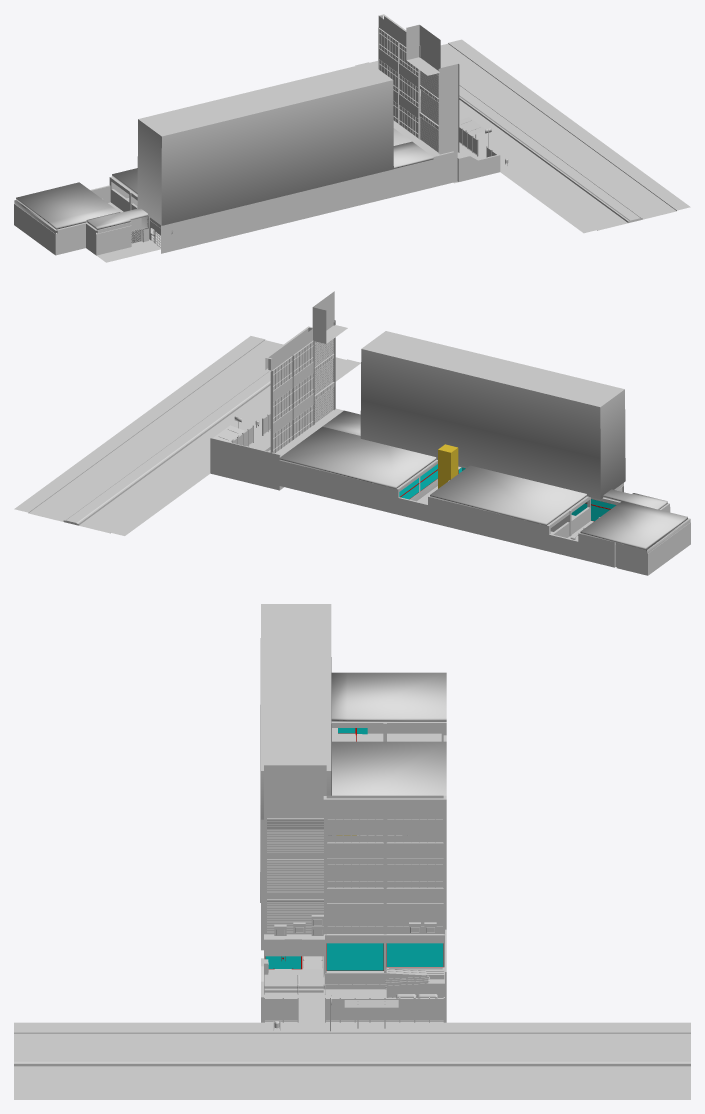
File: bloc.fbx
3 views of the same model, one above another, from view 1: azimuth 30°, elevation 25°; view 2: azimuth 150°, elevation 25°; view 3: azimuth 270°, elevation 25° (orthographic). The views are drawn at different scales.
Parts seen in each view (by area): view 1: Cube.053, Plane.078, Cube.023, Plane.079, Plane.006, Plane.113, Plane.293, Plane.114, Plane.033, Plane.127, Plane.155, Plane.247 (+6 smaller); view 2: Cube.053, Plane.078, Cube.023, Plane.297, Plane.299, Plane.079, Plane.008, Plane.007, Plane.293, Plane.031, Plane.127, Plane.192 (+9 smaller); view 3: Plane.078, Cube.023, Cube.053, Plane.079, Plane.299, Plane.293, Plane.032, Plane.320, Plane.321, chao.003, Plane.122, Cube.009.
Boxes of the visible parts, x1,y1,x2,y2 form: Cube.053: (137, 62, 393, 225); Plane.078: (355, 39, 690, 233); Cube.023: (378, 14, 459, 154); Plane.079: (459, 84, 642, 222); Plane.006: (358, 152, 457, 205); Plane.113: (259, 178, 358, 229); Plane.293: (16, 182, 119, 229); Plane.114: (161, 202, 258, 253); Plane.033: (457, 154, 500, 181); Plane.127: (14, 203, 54, 254); Plane.155: (95, 225, 131, 255); Plane.247: (393, 141, 433, 168); Cube.053: (360, 331, 625, 499); Plane.078: (14, 336, 360, 535); Cube.023: (265, 291, 347, 453); Plane.297: (279, 426, 436, 488); Plane.299: (430, 465, 586, 525); Plane.079: (63, 371, 270, 525); Plane.008: (428, 496, 549, 551); Plane.007: (279, 460, 399, 514); Plane.293: (580, 501, 687, 549); Plane.031: (210, 438, 280, 490); Plane.127: (646, 523, 689, 575); Plane.192: (578, 532, 615, 567); Plane.078: (14, 1022, 690, 1099); Cube.023: (261, 765, 446, 950); Cube.053: (260, 604, 331, 902); Plane.079: (14, 1053, 690, 1066); Plane.299: (332, 741, 446, 795); Plane.293: (331, 672, 446, 721); Plane.032: (264, 989, 443, 1022); Plane.320: (326, 943, 383, 970); Plane.321: (386, 943, 443, 967); chao.003: (265, 956, 323, 984); Plane.122: (323, 934, 444, 943); Cube.009: (331, 721, 443, 741).
Bounding box in the file's own units: 8765 × 2601 × 6555.
